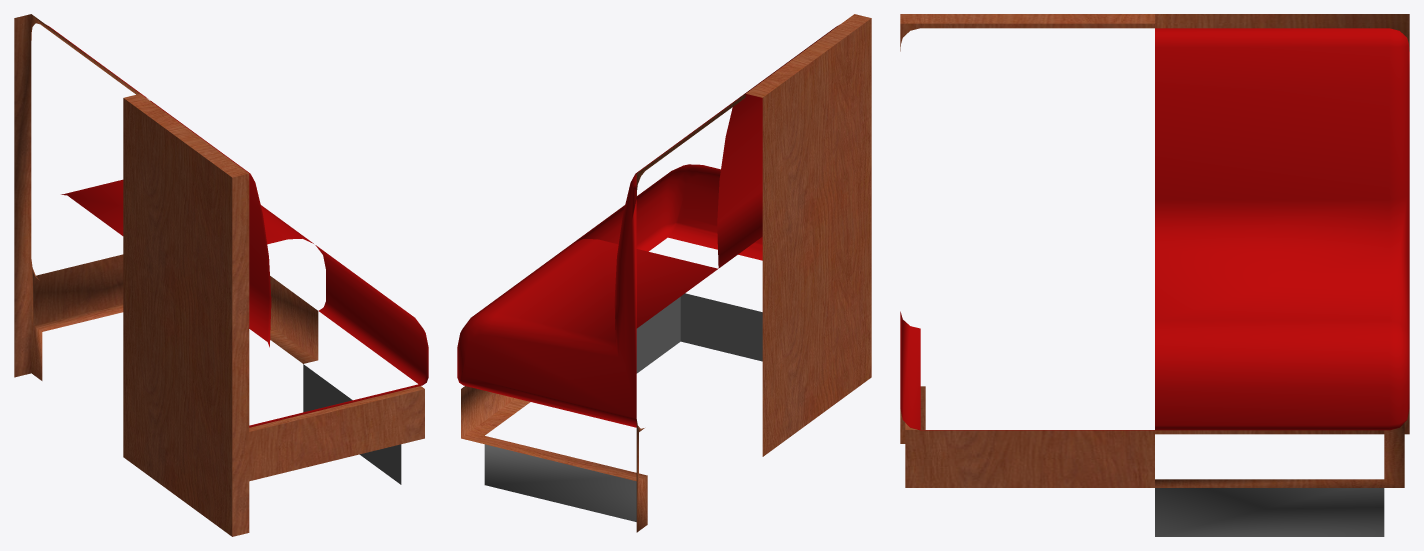
File: o3_divanetto_bar.glb
The picture shows the model from 3 angles, left to right: view 1: azimuth 30°, elevation 25°; view 2: azimuth 150°, elevation 25°; view 3: azimuth 270°, elevation 25°; orthographic projection. The views are drawn at different scales.
Parts seen in each view (by area): view 1: sb_modello; view 2: sb_modello; view 3: sb_modello.
Boxes of the visible parts, x1,y1,x2,y2 form: sb_modello: (14,14,428,536); sb_modello: (457,14,871,532); sb_modello: (900,14,1409,536).
Bounding box in the file's own units: 0.6488 × 1.1 × 1.21.
Materials: 3 (1 with a texture image).
